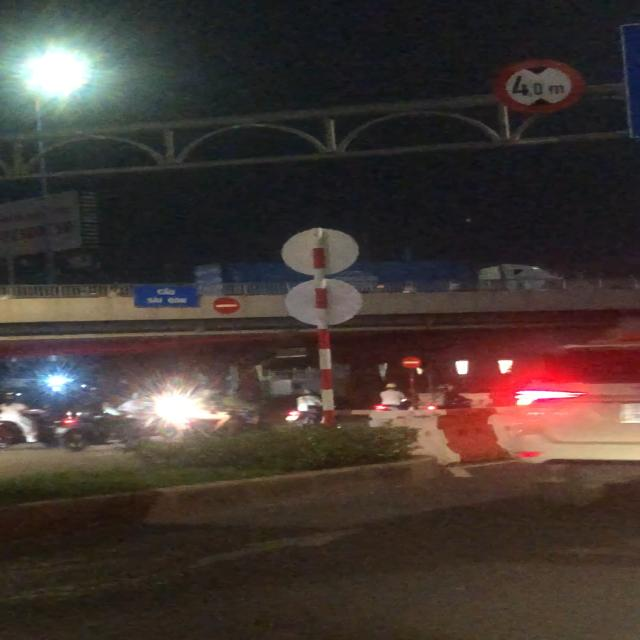Bien bao cam di nguoc chieu: (210, 295, 243, 315)
Bien bao han che chieu cao: (491, 57, 587, 117)
